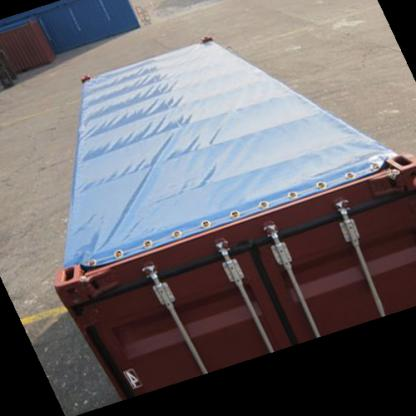Damage: (67, 280, 122, 317), (229, 238, 271, 260)
